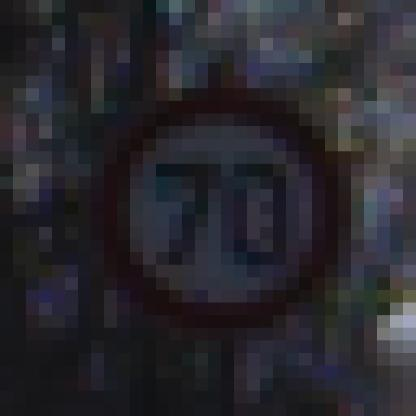Speed Limit 70: (110, 94, 341, 323)
